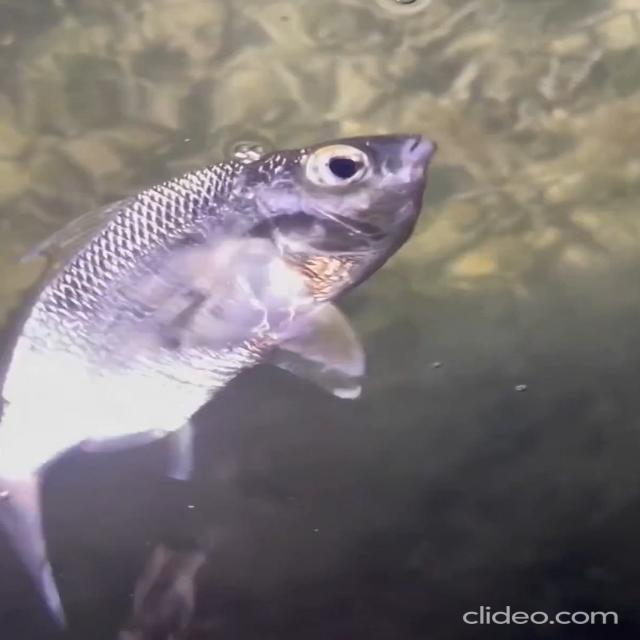fish: (3, 120, 446, 640)
